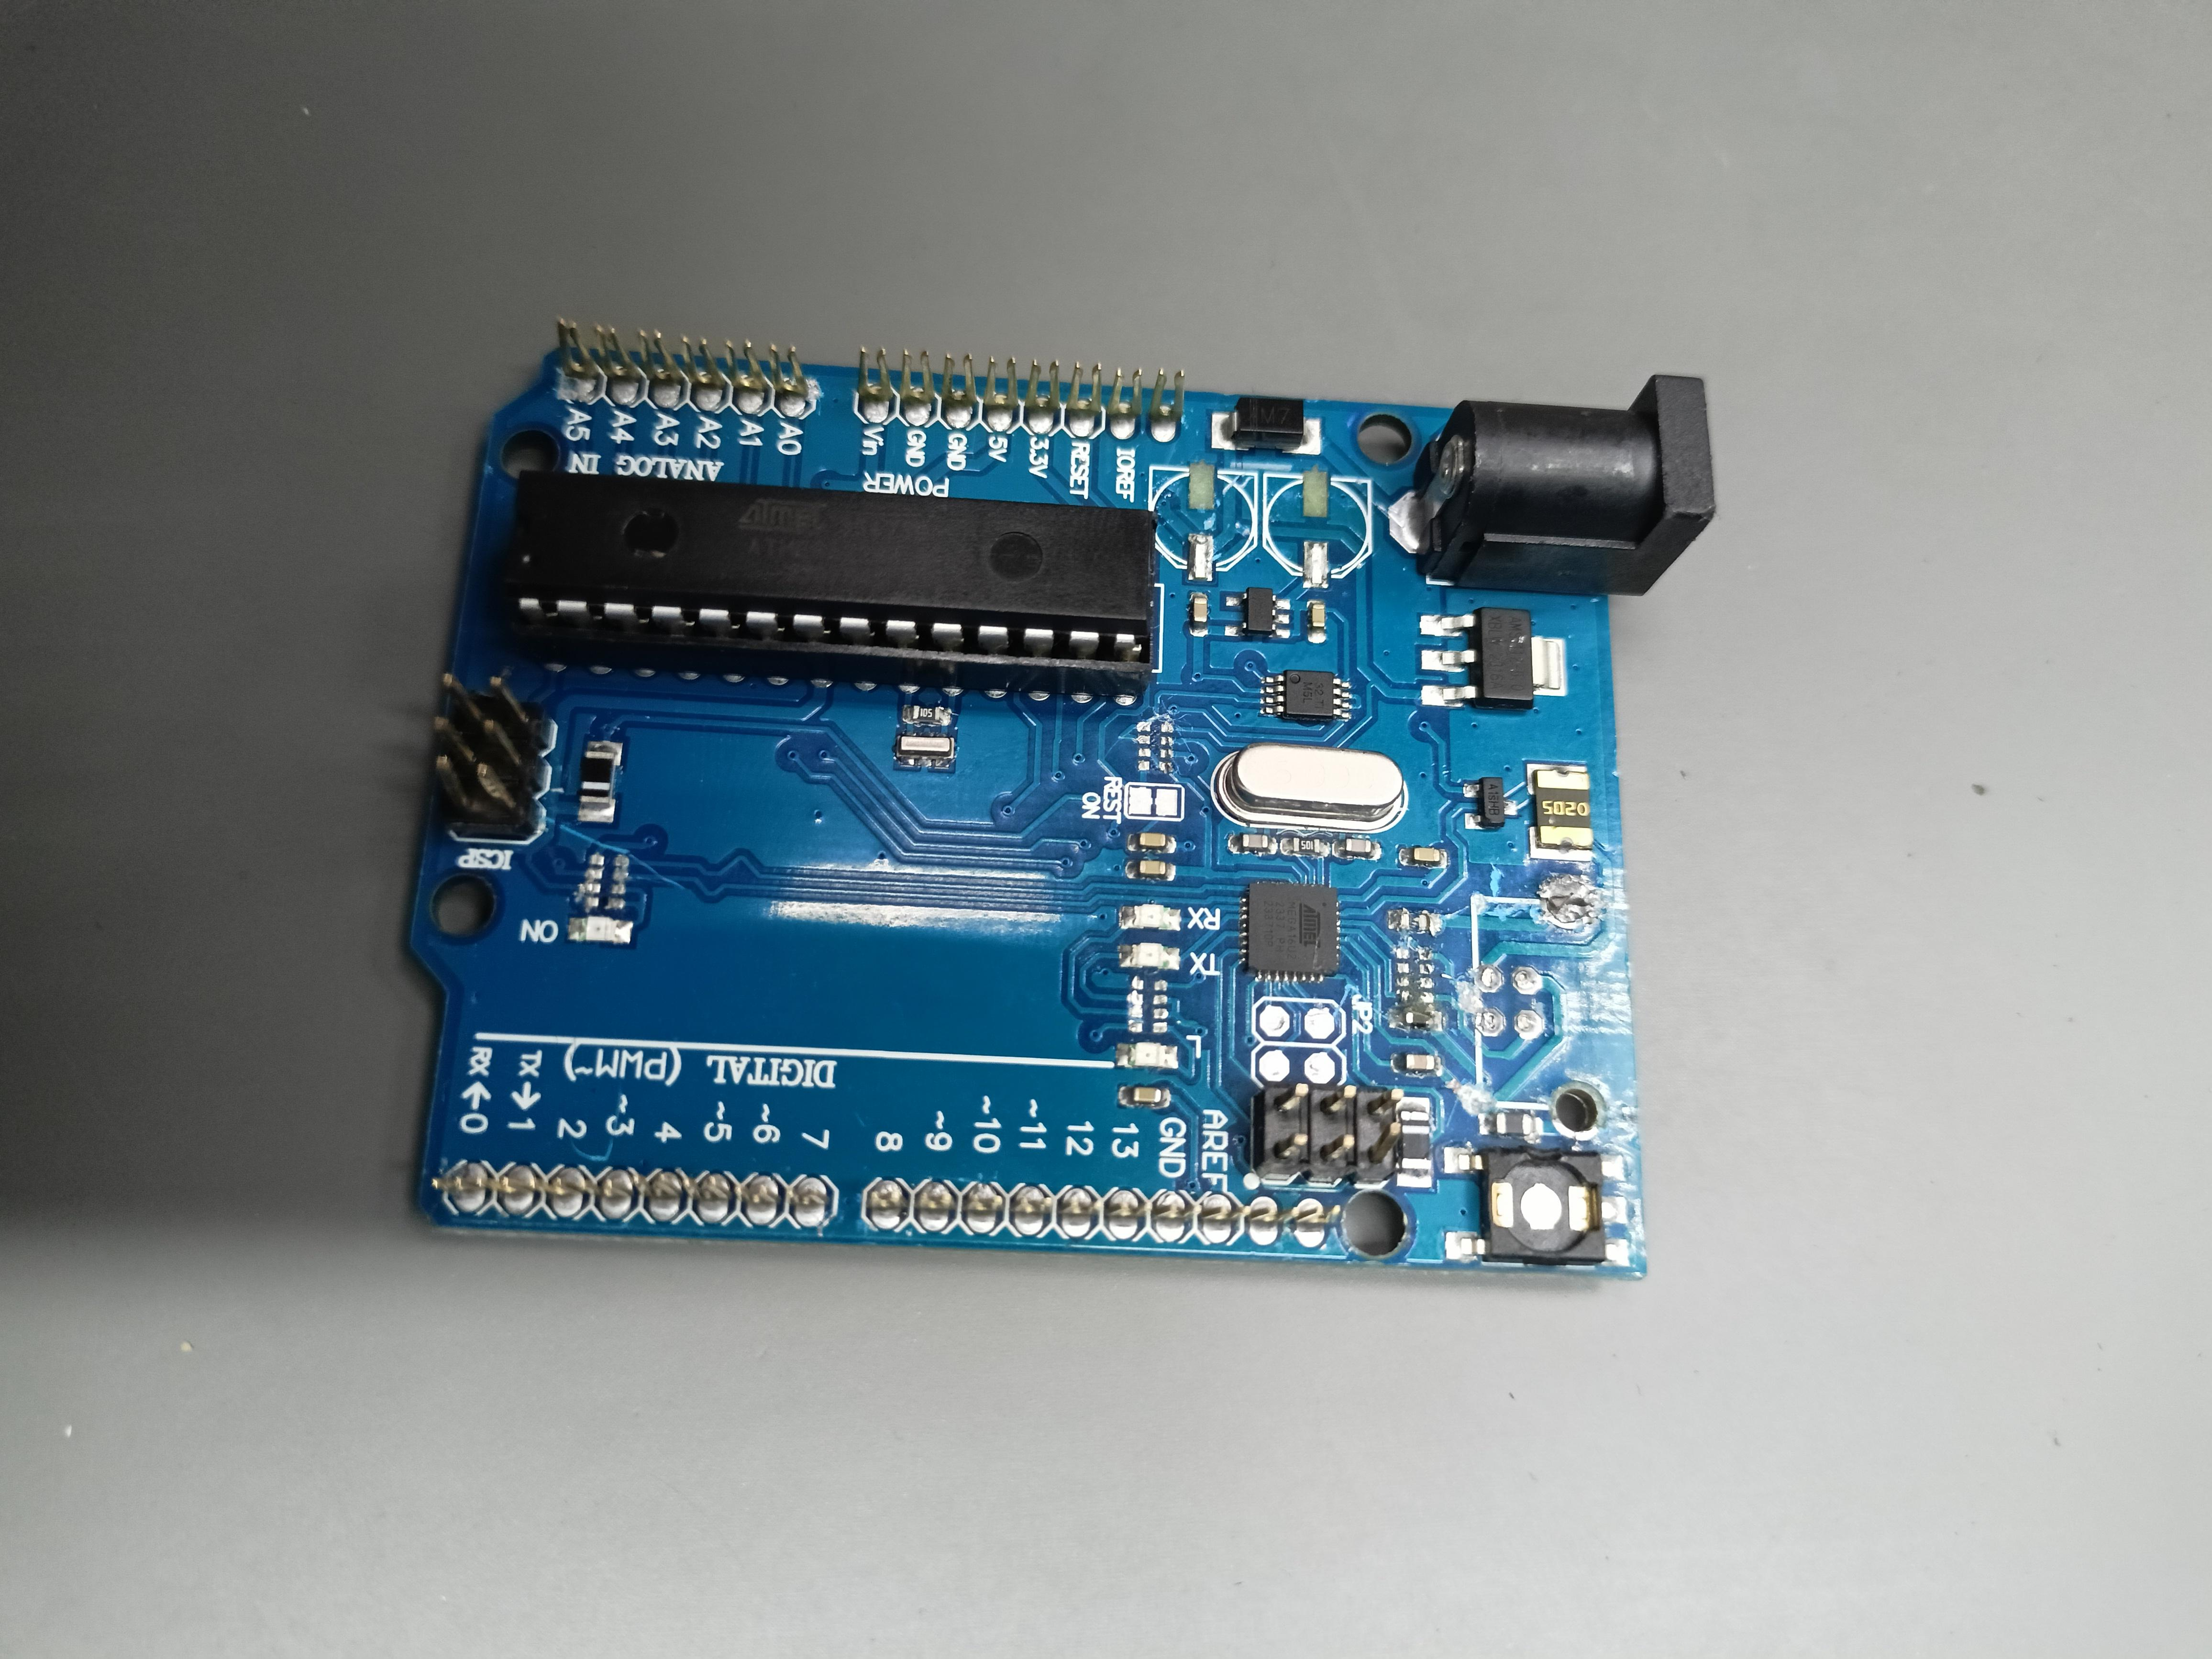ATmega328 chip: (503, 471, 1158, 697)
Arduino board: (408, 315, 1716, 1279)
